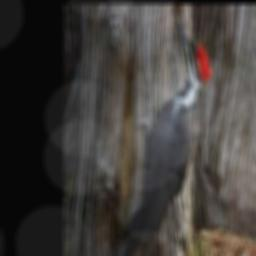Woodpecker: (114, 17, 213, 256)
